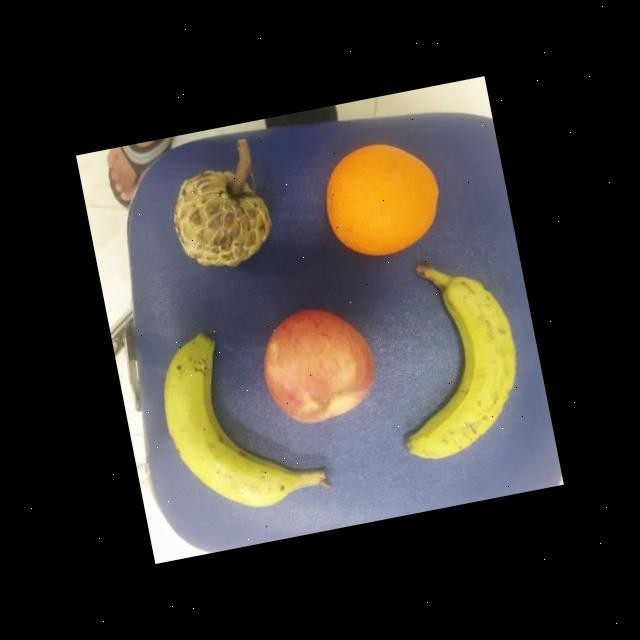Sakya fruit: (165, 160, 278, 276)
apple: (254, 300, 384, 432)
banana: (152, 315, 334, 522), (372, 248, 535, 465)
orange: (316, 132, 450, 264)
